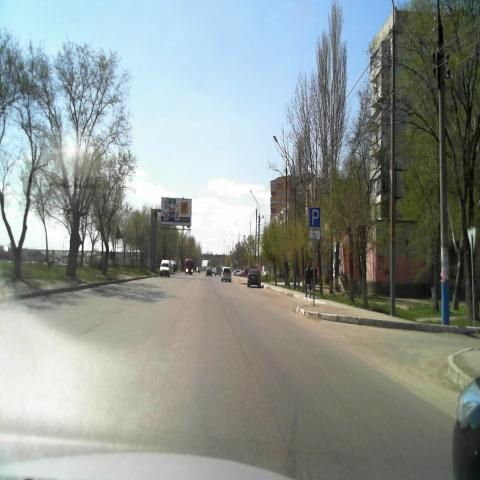8_17: (308, 228, 320, 240)
